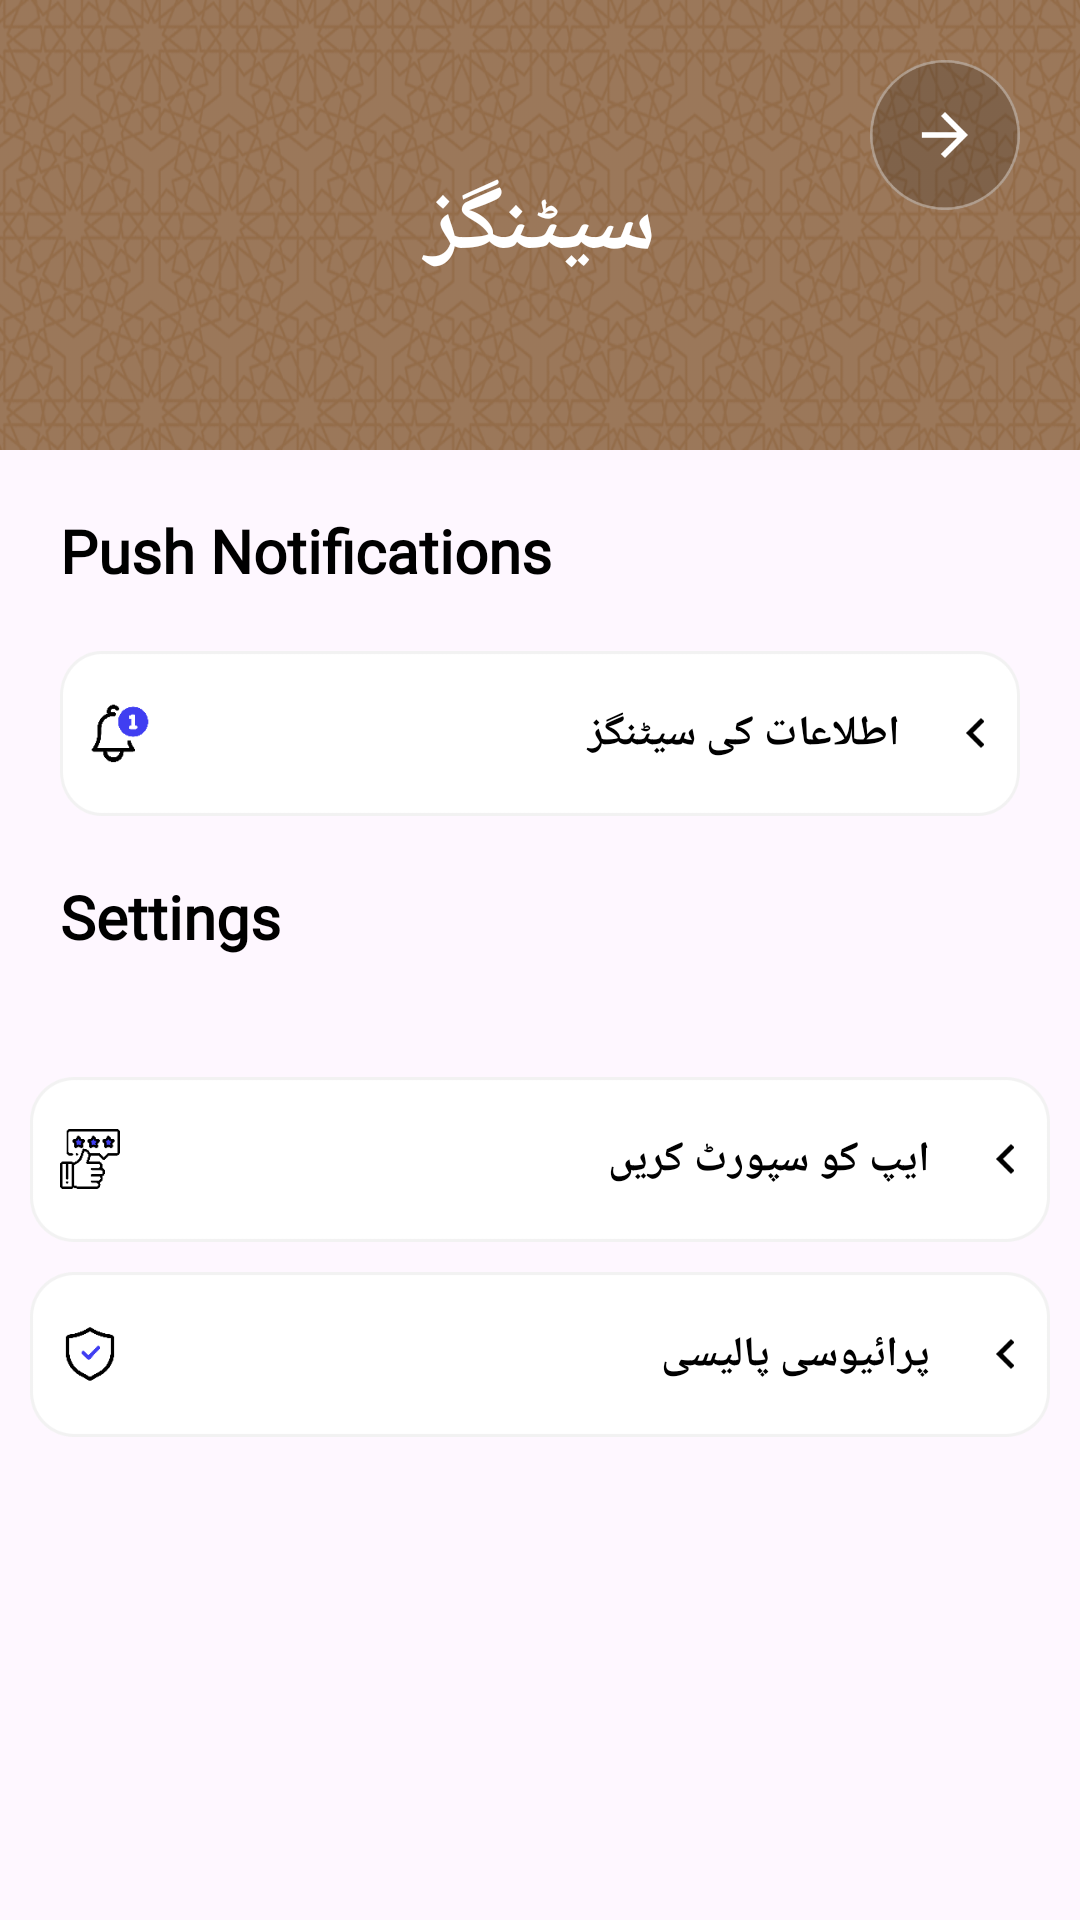

Locate icon controls on the screen. Image size 1080×1920, boxes as BBox(x1, y1, x2, y2).
feedback: BBox(60, 1129, 120, 1189)
insurance: BBox(65, 1327, 115, 1381)
